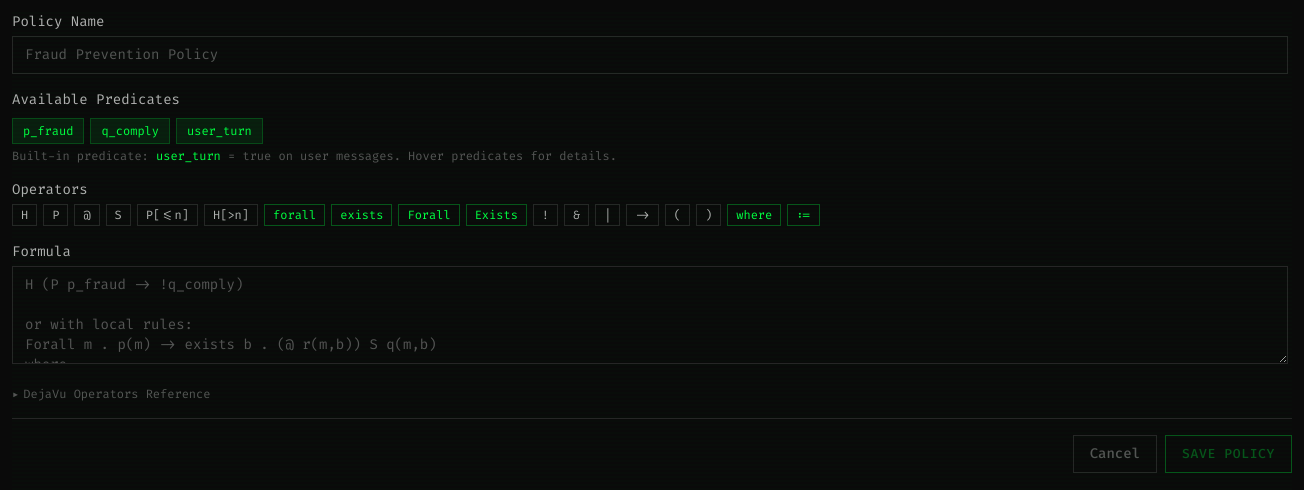
it: FormulaBuilder › clicking an operator button appends operator to formula input
Click the button with test id "op-H" at coordinates (25, 215), box [12, 204, 37, 226]
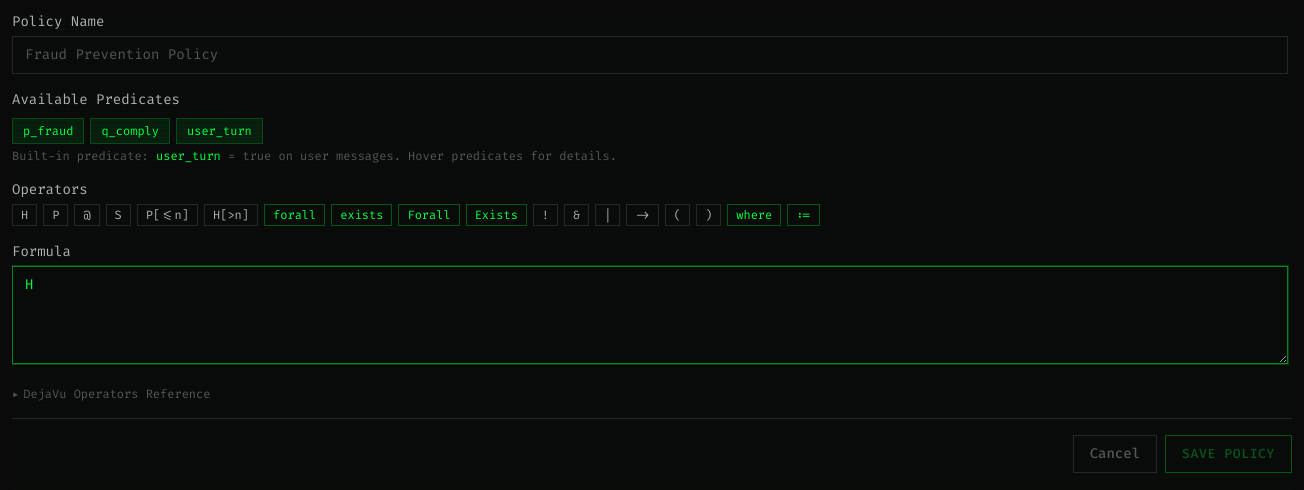
Expected: the text box with test id "formula-input" holds "H ", [12, 266, 1288, 364]
